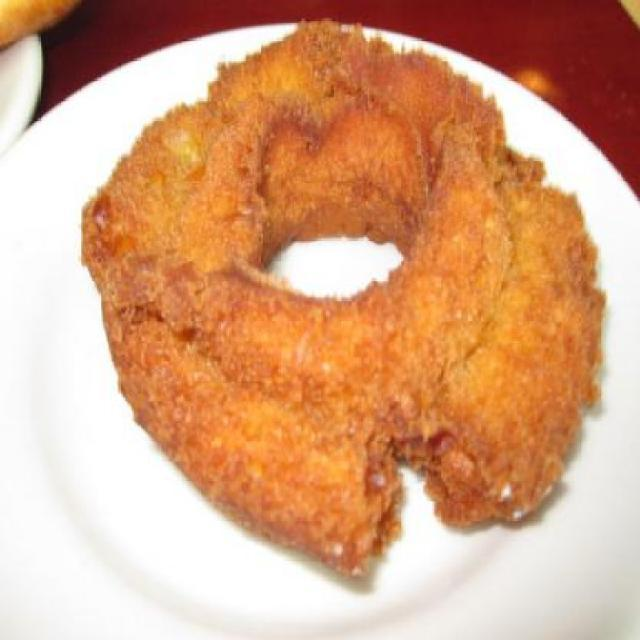Donuts: (96, 23, 630, 592)
